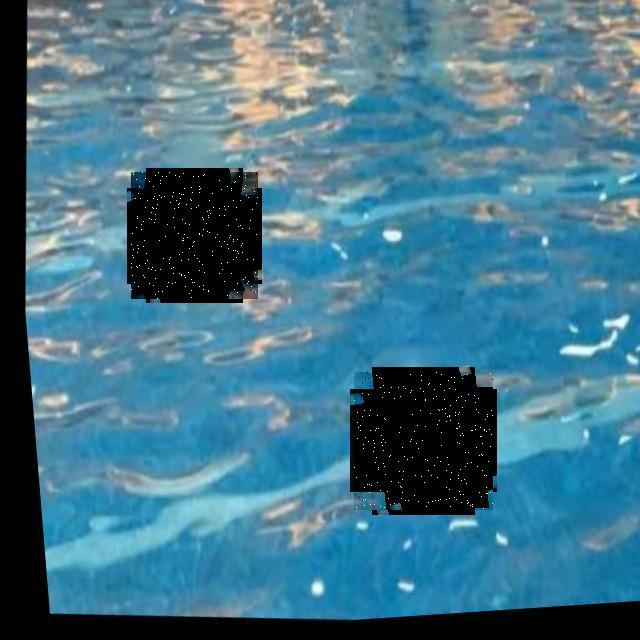swimming: (354, 372, 493, 510), (131, 172, 258, 299)
